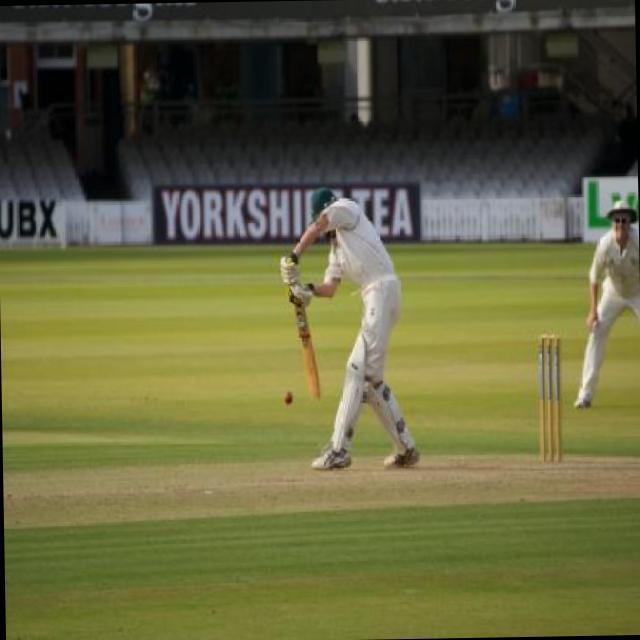-: (275, 369, 300, 418)
